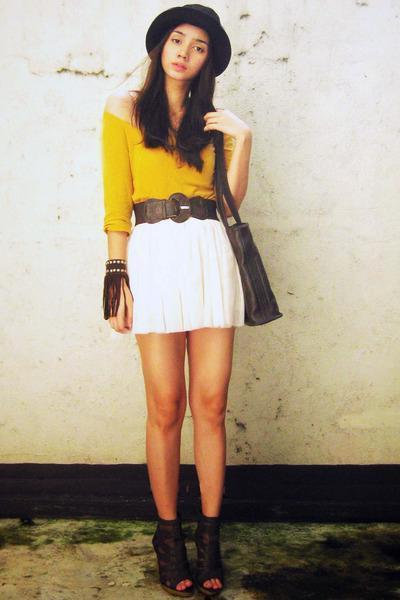long sleeve shirt: (101, 95, 250, 235)
skirt: (123, 212, 248, 339)
